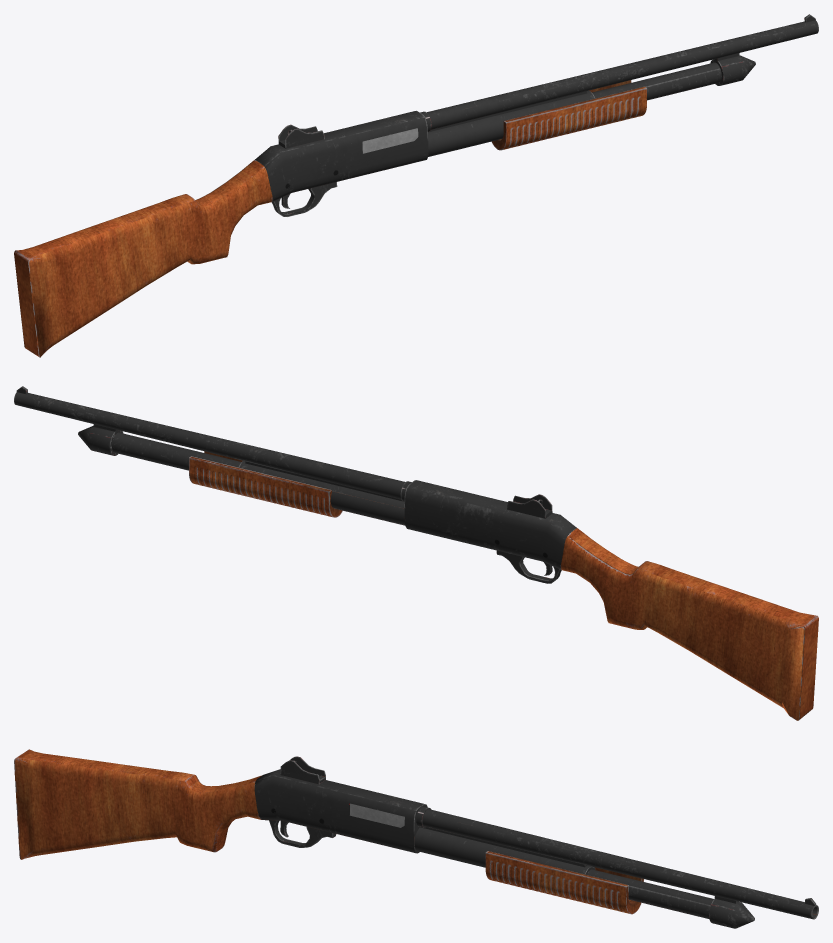
Rendered from shotgun.fbx.
3 renders of one model, top to bottom at view 1: azimuth 30°, elevation 25°; view 2: azimuth 150°, elevation 25°; view 3: azimuth 330°, elevation 25°, orthographic.
Parts seen in each view (by area): view 1: Cylinder.006; view 2: Cylinder.006; view 3: Cylinder.006.
Boxes of the visible parts, box(x1,y1,x2,y2) form: Cylinder.006: box(14, 14, 818, 357); Cylinder.006: box(14, 386, 818, 720); Cylinder.006: box(14, 749, 818, 928).
Size of the model in its own units: 499 by 95.19 by 20.83.
